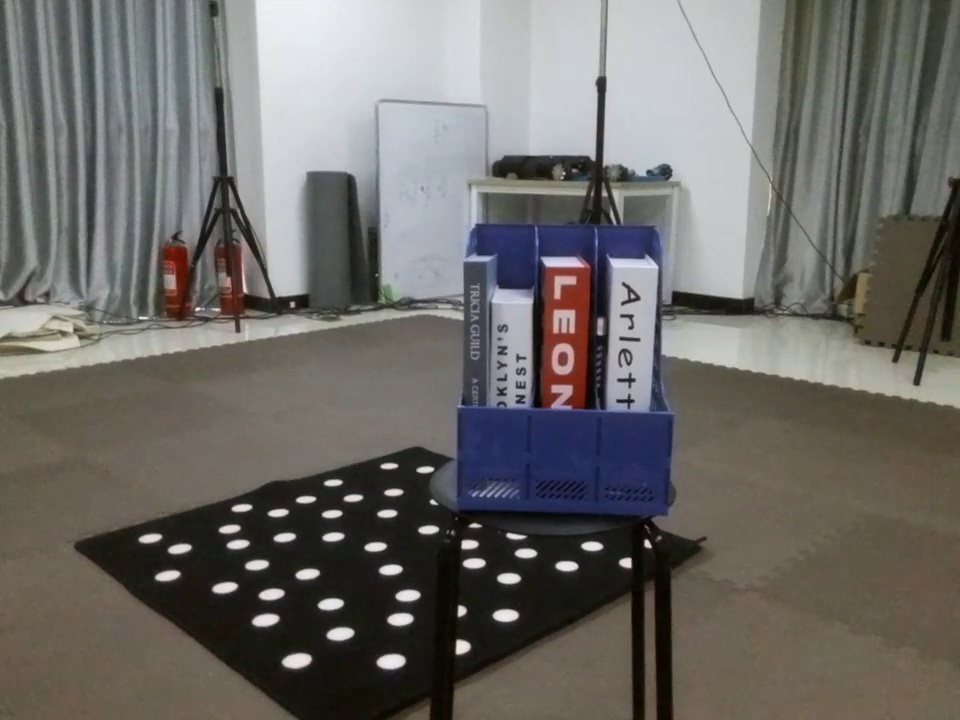files: (440, 215, 699, 522)
